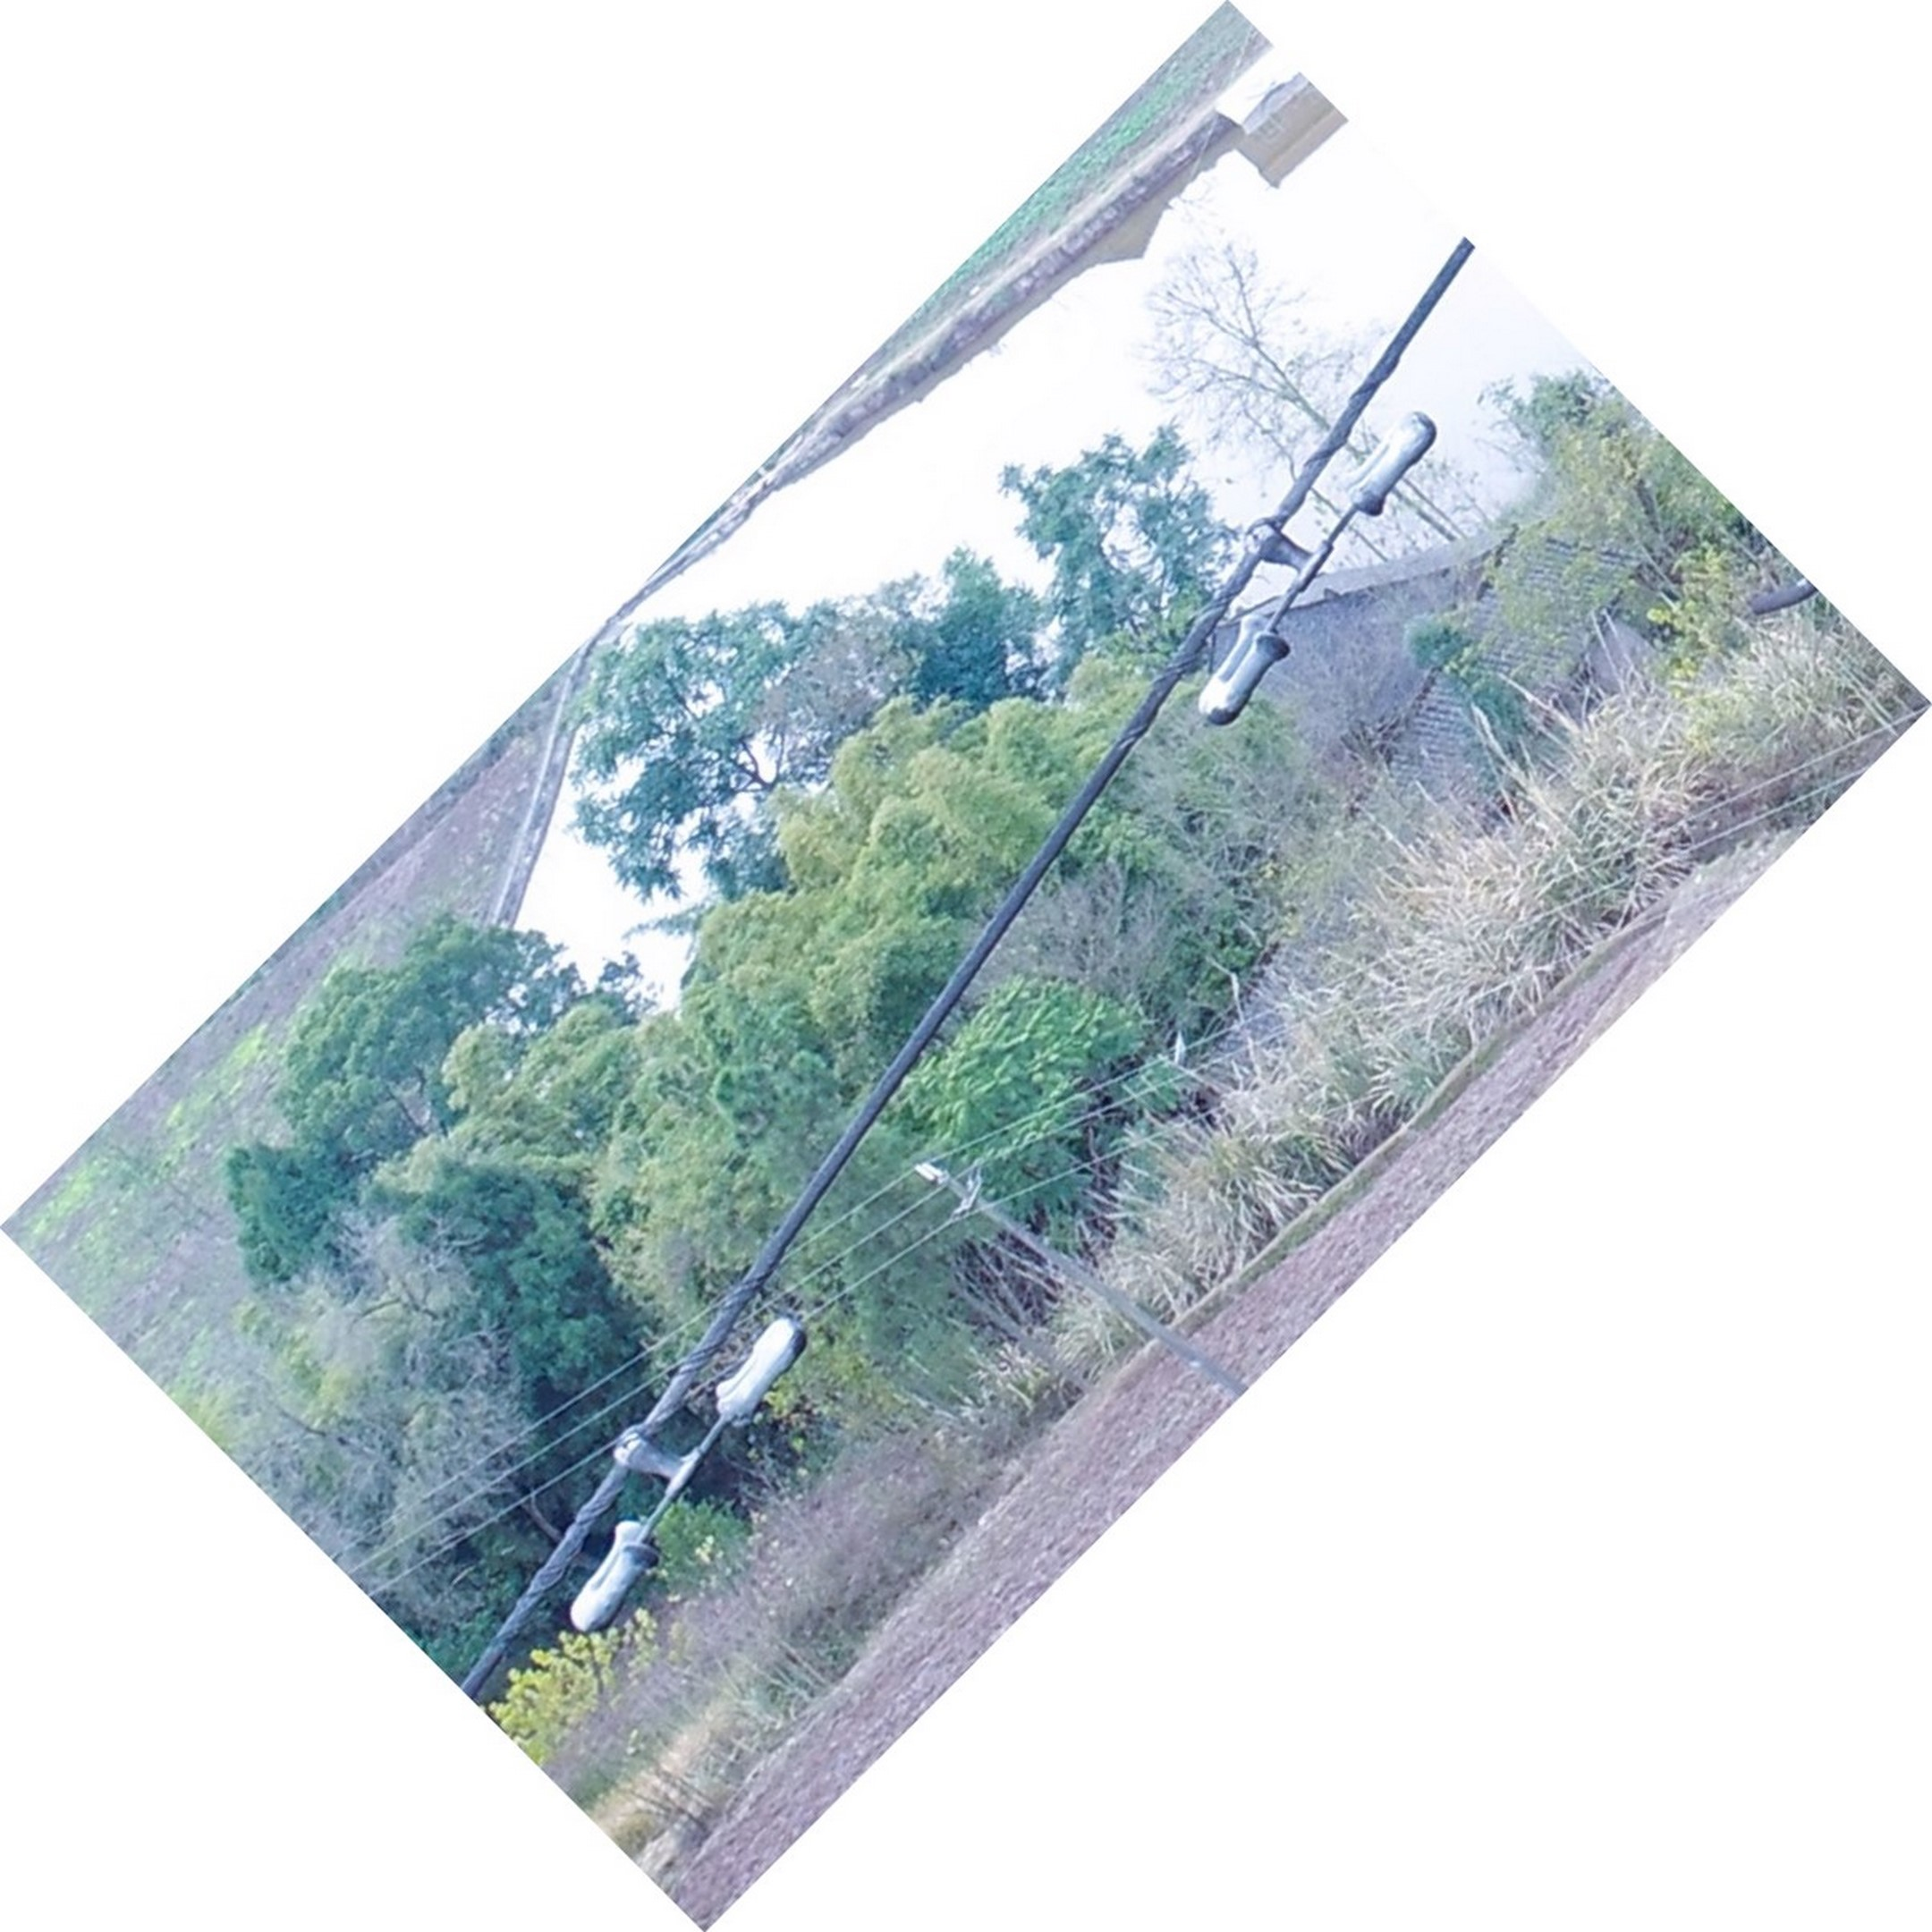Shockproof hammer: (554, 1292, 830, 1654), (1164, 393, 1454, 732)
